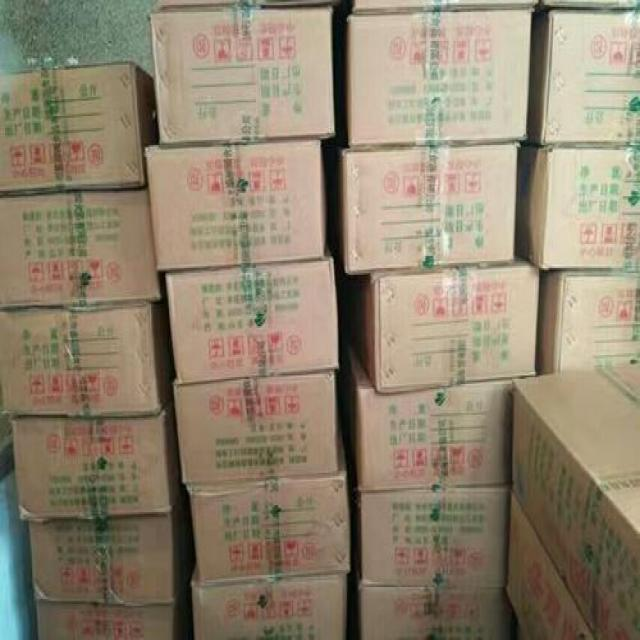box: (504, 368, 640, 638), (342, 0, 547, 151), (147, 0, 336, 154), (336, 140, 526, 278), (353, 260, 540, 394), (346, 351, 511, 496), (145, 138, 327, 268), (162, 258, 344, 386), (0, 178, 165, 314), (0, 406, 184, 526), (167, 366, 342, 486), (185, 462, 354, 586), (0, 70, 158, 198), (0, 309, 174, 419), (353, 482, 514, 597), (26, 506, 195, 608), (527, 0, 640, 151), (519, 135, 640, 268), (534, 261, 640, 374), (186, 572, 354, 640), (358, 582, 516, 640)
